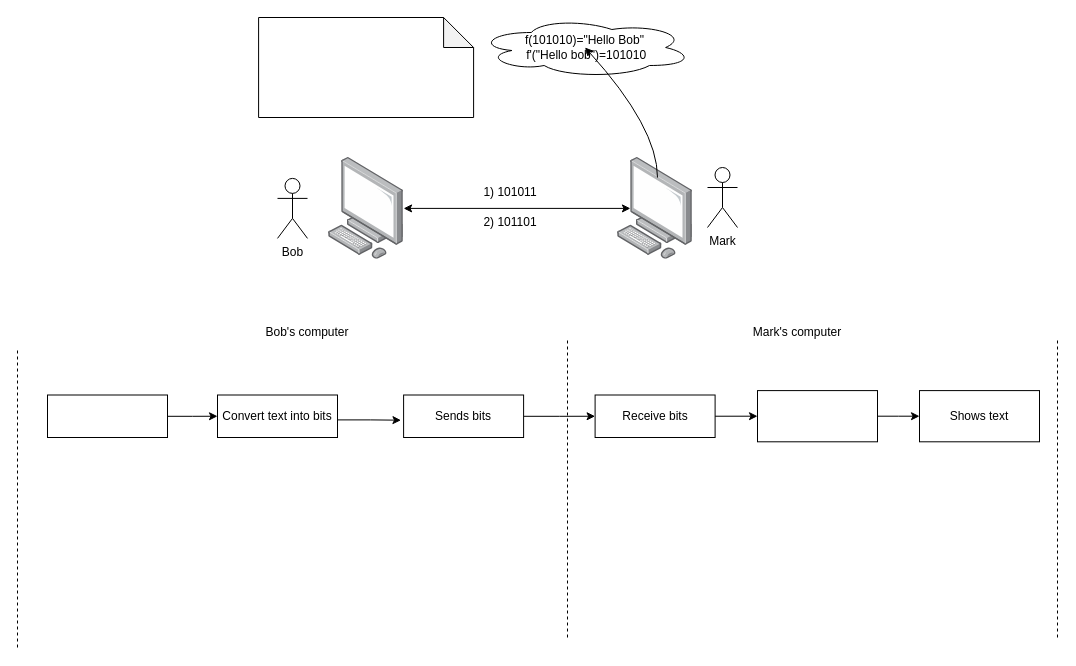
The diagram is 1076 pixels wide and 666 high, and some of its shapes have lost their labels. The centre of each missing label's shape, as x and y in pixels:
"Both computers have a program that 1) converts bits into text 2) text into bits" goes at pixel 366 67.
"Convert bits into text" goes at pixel 817 416.
"Write text" goes at pixel 107 416.
